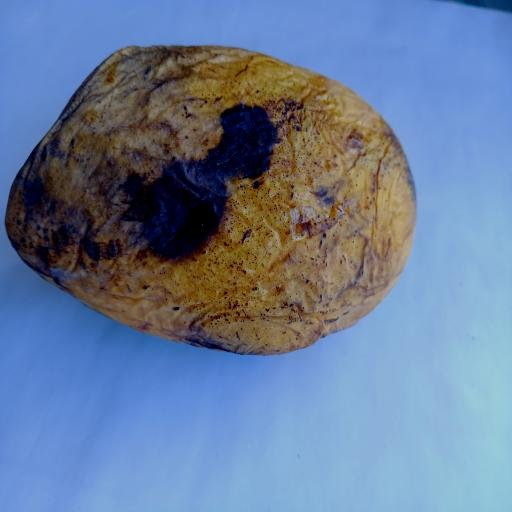mango-overripe: (0, 28, 431, 362)
